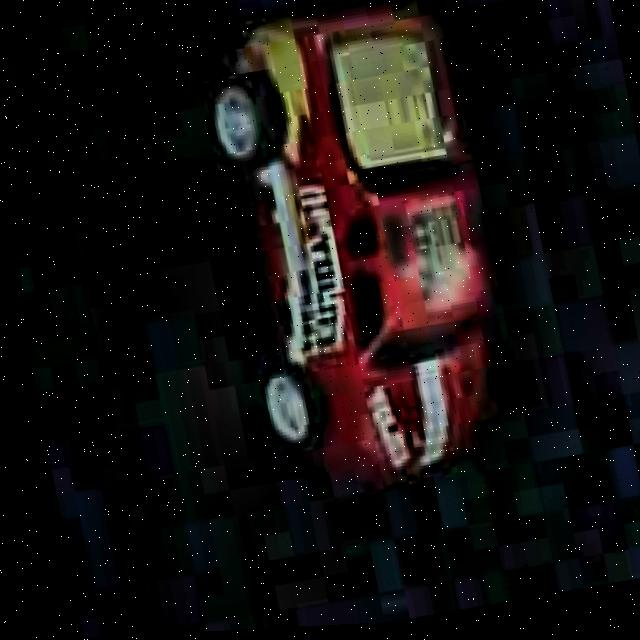car: (169, 0, 542, 510)
